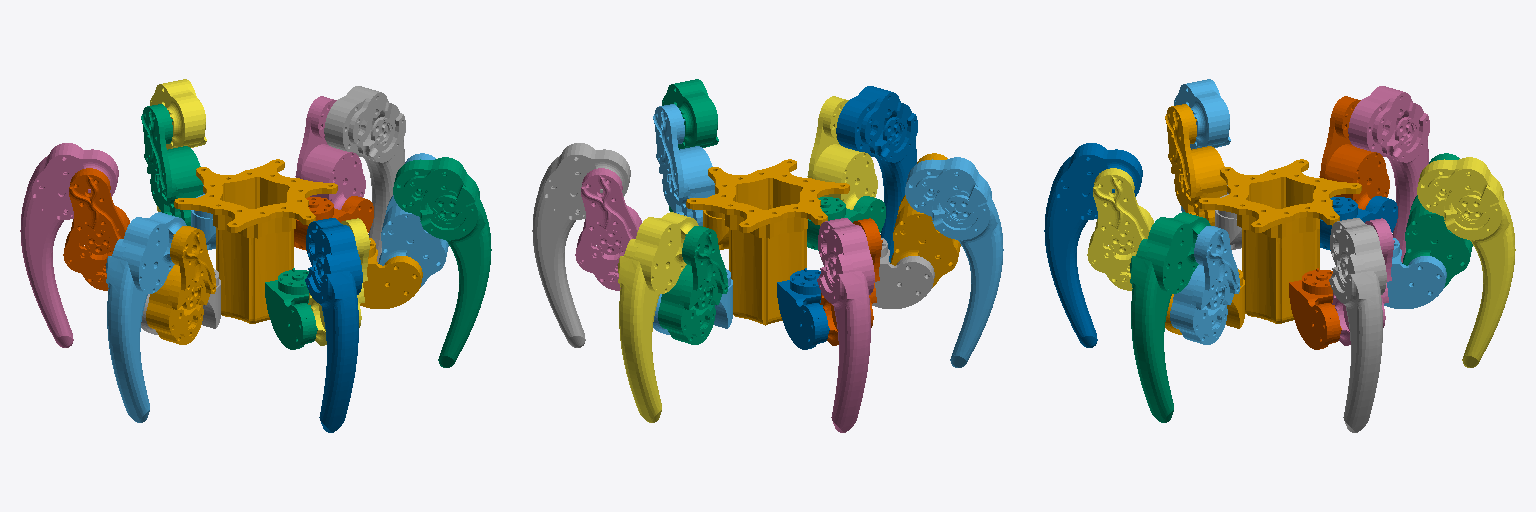
robot.urdf — ability_hand:
<robot name="ability_hand">

	<!-- Establish base frame geometries -->
	<link name="base" >
		<visual name="body_base_mesh">
			<origin rpy = "0 0 0" xyz = "0 0 0"/>
			<geometry>
				<mesh filename="render/FB_base_meters.STL"/>
			</geometry>
		</visual>	
		<visual name="leg1_gbx_mesh">
			<origin rpy = "0 0 0" xyz = "0 0 0"/>
			<geometry>
				<mesh filename="render/FB_gbx_leg1_meters.STL"/>
			</geometry>
		</visual>			
		<visual name="leg2_gbx_mesh">
			<origin rpy = "0 0 1.04719755" xyz = "0 0 0"/>
			<geometry>
				<mesh filename="render/FB_gbx_leg1_meters.STL"/>
			</geometry>
		</visual>			
		<visual name="leg2_gbx_mesh">
			<origin rpy = "0 0 2.0943951" xyz = "0 0 0"/>
			<geometry>
				<mesh filename="render/FB_gbx_leg1_meters.STL"/>
			</geometry>
		</visual>			
		<visual name="leg4_gbx_mesh">
			<origin rpy = "0 0 3.14159265359" xyz = "0 0 0"/>
			<geometry>
				<mesh filename="render/FB_gbx_leg1_meters.STL"/>
			</geometry>
		</visual>			
		<visual name="leg5_gbx_mesh">
			<origin rpy = "0 0 -1.04719755" xyz = "0 0 0"/>
			<geometry>
				<mesh filename="render/FB_gbx_leg1_meters.STL"/>
			</geometry>
		</visual>			
		<visual name="leg6_gbx_mesh">
			<origin rpy = "0 0 -2.0943951" xyz = "0 0 0"/>
			<geometry>
				<mesh filename="render/FB_gbx_leg1_meters.STL"/>
			</geometry>
		</visual>					
	</link>



	<!--
		Establish the frames and geometries for leg1!!!!
	-->
	<link name="leg1_link1" >
		<visual name="leg1_link1_mesh">
			<origin rpy = "0 0 0" xyz = "0 0 0"/>
			<geometry>
				<mesh filename="render/J1_link1_meters.STL"/>
			</geometry>
		</visual>	
		<inertial>
			<mass value = "0.1"/>
			<inertia ixx="0.16931e-6" ixy = "-0.076214e-6" ixz = "-0.16959148e-6" iyy = "0.77769934e-6" iyz = "0.0156622e-6" izz = "0.7249122e-6" />
			<origin rpy = "0 0 0" xyz = "0 0 0"/>
		</inertial>
	</link>
	<link name="leg1_link2" >
		<visual name="leg1_link2_mesh">
			<origin rpy = "0 0 0" xyz = "0 0 0"/>
			<geometry>
				<mesh filename="render/J2_link2_meters.STL"/>
			</geometry>
		</visual>	
		<inertial>
			<mass value = "0.1"/>
			<inertia ixx="0.16931e-6" ixy = "-0.076214e-6" ixz = "-0.16959148e-6" iyy = "0.77769934e-6" iyz = "0.0156622e-6" izz = "0.7249122e-6" />
			<origin rpy = "0 0 0" xyz = "0 0 0"/>
		</inertial>
	</link>
	<link name="leg1_link3" >
		<visual name="leg1_link3_mesh">
			<origin rpy = "0 0 0" xyz = "0 0 0"/>
			<geometry>
				<mesh filename="render/J3_link3_meters.STL"/>
			</geometry>
		</visual>	
		<inertial>
			<mass value = "0.1"/>
			<inertia ixx="0.16931e-6" ixy = "-0.076214e-6" ixz = "-0.16959148e-6" iyy = "0.77769934e-6" iyz = "0.0156622e-6" izz = "0.7249122e-6" />
			<origin rpy = "0 0 0" xyz = "0 0 0"/>
		</inertial>
	</link>
	<joint name="leg1_q1" type="revolute">
		<parent link="base"/>
		<child link="leg1_link1"/>
		<origin rpy = " 0.0 -0.0 1.4824826666439834 " xyz = "  9.68560403467281e-3 109.357754632563e-3 -46.52e-3 "/>
		<limit lower = "-1.0471975512" upper = "1.0471975512" effort = "4096" velocity = "3.4125"/>
		<axis xyz="0 0 1"/>
	</joint>
	<joint name="leg1_q2" type="revolute">
		<parent link="leg1_link1"/>
		<child link="leg1_link2"/>
		<origin rpy = " 1.5707963267948966 -6.099371034007507e-17 -3.141592653589793 " xyz = "  53.19977678085327e-3 -9.341271351859646e-3 -32.1600000000312e-3 "/>
		<limit lower = "0" upper = "3.21140582" effort = "4096" velocity = "3.4125"/>
		<axis xyz="0 0 1"/>
	</joint>
	<joint name="leg1_q3" type="revolute">
		<parent link="leg1_link2"/>
		<child link="leg1_link3"/>
		<origin rpy = " 3.141592653589793 9.240179859386194e-17 3.141592653589793 " xyz = "  -17.75562321538834e-3 98.8847208563049e-3 33.359575692035264e-3 "/>
		<limit lower = "0" upper = "3.17649924" effort = "4096" velocity = "3.4125"/>
		<axis xyz="0 0 1"/>
	</joint>
	
	
	
	
	<!--
		Establish the frames and geometries for leg2!!!!
	-->
	<link name="leg2_link1" >
		<visual name="leg2_link1_mesh">
			<origin rpy = "0 0 0" xyz = "0 0 0"/>
			<geometry>
				<mesh filename="render/J1_link1_meters.STL"/>
			</geometry>
		</visual>	
		<inertial>
			<mass value = "0.1"/>
			<inertia ixx="0.16931e-6" ixy = "-0.076214e-6" ixz = "-0.16959148e-6" iyy = "0.77769934e-6" iyz = "0.0156622e-6" izz = "0.7249122e-6" />
			<origin rpy = "0 0 0" xyz = "0 0 0"/>
		</inertial>
	</link>
	<link name="leg2_link2" >
		<visual name="leg2_link2_mesh">
			<origin rpy = "0 0 0" xyz = "0 0 0"/>
			<geometry>
				<mesh filename="render/J2_link2_meters.STL"/>
			</geometry>
		</visual>	
		<inertial>
			<mass value = "0.1"/>
			<inertia ixx="0.16931e-6" ixy = "-0.076214e-6" ixz = "-0.16959148e-6" iyy = "0.77769934e-6" iyz = "0.0156622e-6" izz = "0.7249122e-6" />
			<origin rpy = "0 0 0" xyz = "0 0 0"/>
		</inertial>
	</link>
	<link name="leg2_link3" >
		<visual name="leg2_link3_mesh">
			<origin rpy = "0 0 0" xyz = "0 0 0"/>
			<geometry>
				<mesh filename="render/J3_link3_meters.STL"/>
			</geometry>
		</visual>	
		<inertial>
			<mass value = "0.1"/>
			<inertia ixx="0.16931e-6" ixy = "-0.076214e-6" ixz = "-0.16959148e-6" iyy = "0.77769934e-6" iyz = "0.0156622e-6" izz = "0.7249122e-6" />
			<origin rpy = "0 0 0" xyz = "0 0 0"/>
		</inertial>
	</link>
	<joint name="leg2_q1" type="revolute">
		<parent link="base"/>
		<child link="leg2_link1"/>
		 <origin rpy = " 0.0 -0.0 2.529680217840581 " xyz = "  -89.86379159528853e-3 63.06685646130522e-3 -46.52e-3 "/>
		<limit lower = "-1.0471975512" upper = "1.0471975512" effort = "4096" velocity = "3.4125"/>
		<axis xyz="0 0 1"/>
	</joint>
	<joint name="leg2_q2" type="revolute">
		<parent link="leg2_link1"/>
		<child link="leg2_link2"/>
		<origin rpy = " 1.5707963267948966 -6.099371034007507e-17 -3.141592653589793 " xyz = "  53.19977678085327e-3 -9.341271351859646e-3 -32.1600000000312e-3 "/>
		<limit lower = "0" upper = "3.21140582" effort = "4096" velocity = "3.4125"/>
		<axis xyz="0 0 1"/>
	</joint>
	<joint name="leg2_q3" type="revolute">
		<parent link="leg2_link2"/>
		<child link="leg2_link3"/>
		<origin rpy = " 3.141592653589793 9.240179859386194e-17 3.141592653589793 " xyz = "  -17.75562321538834e-3 98.8847208563049e-3 33.359575692035264e-3 "/>
		<limit lower = "0" upper = "3.17649924" effort = "4096" velocity = "3.4125"/>
		<axis xyz="0 0 1"/>
	</joint>

	
	
	
	<!--
		Establish the frames and geometries for leg3!!!!
	-->
	<link name="leg3_link1" >
		<visual name="leg3_link1_mesh">
			<origin rpy = "0 0 0" xyz = "0 0 0"/>
			<geometry>
				<mesh filename="render/J1_link1_meters.STL"/>
			</geometry>
		</visual>	
		<inertial>
			<mass value = "0.1"/>
			<inertia ixx="0.16931e-6" ixy = "-0.076214e-6" ixz = "-0.16959148e-6" iyy = "0.77769934e-6" iyz = "0.0156622e-6" izz = "0.7249122e-6" />
			<origin rpy = "0 0 0" xyz = "0 0 0"/>
		</inertial>
	</link>
	<link name="leg3_link2" >
		<visual name="leg3_link2_mesh">
			<origin rpy = "0 0 0" xyz = "0 0 0"/>
			<geometry>
				<mesh filename="render/J2_link2_meters.STL"/>
			</geometry>
		</visual>	
		<inertial>
			<mass value = "0.1"/>
			<inertia ixx="0.16931e-6" ixy = "-0.076214e-6" ixz = "-0.16959148e-6" iyy = "0.77769934e-6" iyz = "0.0156622e-6" izz = "0.7249122e-6" />
			<origin rpy = "0 0 0" xyz = "0 0 0"/>
		</inertial>
	</link>
	<link name="leg3_link3" >
		<visual name="leg3_link3_mesh">
			<origin rpy = "0 0 0" xyz = "0 0 0"/>
			<geometry>
				<mesh filename="render/J3_link3_meters.STL"/>
			</geometry>
		</visual>	
		<inertial>
			<mass value = "0.1"/>
			<inertia ixx="0.16931e-6" ixy = "-0.076214e-6" ixz = "-0.16959148e-6" iyy = "0.77769934e-6" iyz = "0.0156622e-6" izz = "0.7249122e-6" />
			<origin rpy = "0 0 0" xyz = "0 0 0"/>
		</inertial>
	</link>
	<joint name="leg3_q1" type="revolute">
		<parent link="base"/>
		<child link="leg3_link1"/>
		<origin rpy = " 0.0 -0.0 -2.7063075381424078 " xyz = "  -99.54939562996135e-3 -46.290898171257766e-3 -46.52e-3 "/>
		<limit lower = "-1.0471975512" upper = "1.0471975512" effort = "4096" velocity = "3.4125"/>
		<axis xyz="0 0 1"/>
	</joint>
	<joint name="leg3_q2" type="revolute">
		<parent link="leg3_link1"/>
		<child link="leg3_link2"/>
		<origin rpy = " 1.5707963267948966 -6.099371034007507e-17 -3.141592653589793 " xyz = "  53.19977678085327e-3 -9.341271351859646e-3 -32.1600000000312e-3 "/>
		<limit lower = "0" upper = "3.21140582" effort = "4096" velocity = "3.4125"/>
		<axis xyz="0 0 1"/>
	</joint>
	<joint name="leg3_q3" type="revolute">
		<parent link="leg3_link2"/>
		<child link="leg3_link3"/>
		<origin rpy = " 3.141592653589793 9.240179859386194e-17 3.141592653589793 " xyz = "  -17.75562321538834e-3 98.8847208563049e-3 33.359575692035264e-3 "/>
		<limit lower = "0" upper = "3.17649924" effort = "4096" velocity = "3.4125"/>
		<axis xyz="0 0 1"/>
	</joint>
	


	<!--
		Establish the frames and geometries for leg4!!!!
	-->
	<link name="leg4_link1" >
		<visual name="leg4_link1_mesh">
			<origin rpy = "0 0 0" xyz = "0 0 0"/>
			<geometry>
				<mesh filename="render/J1_link1_meters.STL"/>
			</geometry>
		</visual>	
		<inertial>
			<mass value = "0.1"/>
			<inertia ixx="0.16931e-6" ixy = "-0.076214e-6" ixz = "-0.16959148e-6" iyy = "0.77769934e-6" iyz = "0.0156622e-6" izz = "0.7249122e-6" />
			<origin rpy = "0 0 0" xyz = "0 0 0"/>
		</inertial>
	</link>
	<link name="leg4_link2" >
		<visual name="leg4_link2_mesh">
			<origin rpy = "0 0 0" xyz = "0 0 0"/>
			<geometry>
				<mesh filename="render/J2_link2_meters.STL"/>
			</geometry>
		</visual>	
		<inertial>
			<mass value = "0.1"/>
			<inertia ixx="0.16931e-6" ixy = "-0.076214e-6" ixz = "-0.16959148e-6" iyy = "0.77769934e-6" iyz = "0.0156622e-6" izz = "0.7249122e-6" />
			<origin rpy = "0 0 0" xyz = "0 0 0"/>
		</inertial>
	</link>
	<link name="leg4_link3" >
		<visual name="leg4_link3_mesh">
			<origin rpy = "0 0 0" xyz = "0 0 0"/>
			<geometry>
				<mesh filename="render/J3_link3_meters.STL"/>
			</geometry>
		</visual>	
		<inertial>
			<mass value = "0.1"/>
			<inertia ixx="0.16931e-6" ixy = "-0.076214e-6" ixz = "-0.16959148e-6" iyy = "0.77769934e-6" iyz = "0.0156622e-6" izz = "0.7249122e-6" />
			<origin rpy = "0 0 0" xyz = "0 0 0"/>
		</inertial>
	</link>
	<joint name="leg4_q1" type="revolute">
		<parent link="base"/>
		<child link="leg4_link1"/>
		<origin rpy = " 0.0 -0.0 -1.65910998694581 " xyz = "  -9.685604034672824e-3 -109.357754632563e-3 -46.52e-3 "/>
		<limit lower = "-1.0471975512" upper = "1.0471975512" effort = "4096" velocity = "3.4125"/>
		<axis xyz="0 0 1"/>
	</joint>
	<joint name="leg4_q2" type="revolute">
		<parent link="leg4_link1"/>
		<child link="leg4_link2"/>
		<origin rpy = " 1.5707963267948966 -6.099371034007507e-17 -3.141592653589793 " xyz = "  53.19977678085327e-3 -9.341271351859646e-3 -32.1600000000312e-3 "/>
		<limit lower = "0" upper = "3.21140582" effort = "4096" velocity = "3.4125"/>
		<axis xyz="0 0 1"/>
	</joint>
	<joint name="leg4_q3" type="revolute">
		<parent link="leg4_link2"/>
		<child link="leg4_link3"/>
		<origin rpy = " 3.141592653589793 9.240179859386194e-17 3.141592653589793 " xyz = "  -17.75562321538834e-3 98.8847208563049e-3 33.359575692035264e-3 "/>
		<limit lower = "0" upper = "3.17649924" effort = "4096" velocity = "3.4125"/>
		<axis xyz="0 0 1"/>
	</joint>





	<!--
		Establish the frames and geometries for leg5 !!!!
	-->
	<link name="leg5_link1" >
		<visual name="leg5_link1_mesh">
			<origin rpy = "0 0 0" xyz = "0 0 0"/>
			<geometry>
				<mesh filename="render/J1_link1_meters.STL"/>
			</geometry>
		</visual>	
		<inertial>
			<mass value = "0.1"/>
			<inertia ixx="0.16931e-6" ixy = "-0.076214e-6" ixz = "-0.16959148e-6" iyy = "0.77769934e-6" iyz = "0.0156622e-6" izz = "0.7249122e-6" />
			<origin rpy = "0 0 0" xyz = "0 0 0"/>
		</inertial>
	</link>
	<link name="leg5_link2" >
		<visual name="leg5_link2_mesh">
			<origin rpy = "0 0 0" xyz = "0 0 0"/>
			<geometry>
				<mesh filename="render/J2_link2_meters.STL"/>
			</geometry>
		</visual>	
		<inertial>
			<mass value = "0.1"/>
			<inertia ixx="0.16931e-6" ixy = "-0.076214e-6" ixz = "-0.16959148e-6" iyy = "0.77769934e-6" iyz = "0.0156622e-6" izz = "0.7249122e-6" />
			<origin rpy = "0 0 0" xyz = "0 0 0"/>
		</inertial>
	</link>
	<link name="leg5_link3" >
		<visual name="leg5_link3_mesh">
			<origin rpy = "0 0 0" xyz = "0 0 0"/>
			<geometry>
				<mesh filename="render/J3_link3_meters.STL"/>
			</geometry>
		</visual>	
		<inertial>
			<mass value = "0.1"/>
			<inertia ixx="0.16931e-6" ixy = "-0.076214e-6" ixz = "-0.16959148e-6" iyy = "0.77769934e-6" iyz = "0.0156622e-6" izz = "0.7249122e-6" />
			<origin rpy = "0 0 0" xyz = "0 0 0"/>
		</inertial>
	</link>
	<joint name="leg5_q1" type="revolute">
		<parent link="base"/>
		<child link="leg5_link1"/>
		<origin rpy = " 0.0 -0.0 0.4352851154473858 " xyz = "  99.54939562996134e-3 46.2908981712578e-3 -46.52e-3 "/>
		<limit lower = "-1.0471975512" upper = "1.0471975512" effort = "4096" velocity = "3.4125"/>
		<axis xyz="0 0 1"/>
	</joint>
	<joint name="leg5_q2" type="revolute">
		<parent link="leg5_link1"/>
		<child link="leg5_link2"/>
		<origin rpy = " 1.5707963267948966 -6.099371034007507e-17 -3.141592653589793 " xyz = "  53.19977678085327e-3 -9.341271351859646e-3 -32.1600000000312e-3 "/>
		<limit lower = "0" upper = "3.21140582" effort = "4096" velocity = "3.4125"/>
		<axis xyz="0 0 1"/>
	</joint>
	<joint name="leg5_q3" type="revolute">
		<parent link="leg5_link2"/>
		<child link="leg5_link3"/>
		<origin rpy = " 3.141592653589793 9.240179859386194e-17 3.141592653589793 " xyz = "  -17.75562321538834e-3 98.8847208563049e-3 33.359575692035264e-3 "/>
		<limit lower = "0" upper = "3.17649924" effort = "4096" velocity = "3.4125"/>
		<axis xyz="0 0 1"/>
	</joint>


	<!--
		Establish the frames and geometries for leg6 !!!!
	-->
	<link name="leg6_link1" >
		<visual name="leg6_link1_mesh">
			<origin rpy = "0 0 0" xyz = "0 0 0"/>
			<geometry>
				<mesh filename="render/J1_link1_meters.STL"/>
			</geometry>
		</visual>	
		<inertial>
			<mass value = "0.1"/>
			<inertia ixx="0.16931e-6" ixy = "-0.076214e-6" ixz = "-0.16959148e-6" iyy = "0.77769934e-6" iyz = "0.0156622e-6" izz = "0.7249122e-6" />
			<origin rpy = "0 0 0" xyz = "0 0 0"/>
		</inertial>
	</link>
	<link name="leg6_link2" >
		<visual name="leg6_link2_mesh">
			<origin rpy = "0 0 0" xyz = "0 0 0"/>
			<geometry>
				<mesh filename="render/J2_link2_meters.STL"/>
			</geometry>
		</visual>	
		<inertial>
			<mass value = "0.1"/>
			<inertia ixx="0.16931e-6" ixy = "-0.076214e-6" ixz = "-0.16959148e-6" iyy = "0.77769934e-6" iyz = "0.0156622e-6" izz = "0.7249122e-6" />
			<origin rpy = "0 0 0" xyz = "0 0 0"/>
		</inertial>
	</link>
	<link name="leg6_link3" >
		<visual name="leg6_link3_mesh">
			<origin rpy = "0 0 0" xyz = "0 0 0"/>
			<geometry>
				<mesh filename="render/J3_link3_meters.STL"/>
			</geometry>
		</visual>	
		<inertial>
			<mass value = "0.1"/>
			<inertia ixx="0.16931e-6" ixy = "-0.076214e-6" ixz = "-0.16959148e-6" iyy = "0.77769934e-6" iyz = "0.0156622e-6" izz = "0.7249122e-6" />
			<origin rpy = "0 0 0" xyz = "0 0 0"/>
		</inertial>
	</link>
	<joint name="leg6_q1" type="revolute">
		<parent link="base"/>
		<child link="leg6_link1"/>
		<origin rpy = " 0.0 -0.0 -0.6119124357492118 " xyz = "  89.86379159528855e-3 -63.066856461305186e-3 -46.52e-3 "/>
		<limit lower = "-1.0471975512" upper = "1.0471975512" effort = "4096" velocity = "3.4125"/>
		<axis xyz="0 0 1"/>
	</joint>
	<joint name="leg6_q2" type="revolute">
		<parent link="leg6_link1"/>
		<child link="leg6_link2"/>
		<origin rpy = " 1.5707963267948966 -6.099371034007507e-17 -3.141592653589793 " xyz = "  53.19977678085327e-3 -9.341271351859646e-3 -32.1600000000312e-3 "/>
		<limit lower = "0" upper = "3.21140582" effort = "4096" velocity = "3.4125"/>
		<axis xyz="0 0 1"/>
	</joint>
	<joint name="leg6_q3" type="revolute">
		<parent link="leg6_link2"/>
		<child link="leg6_link3"/>
		<origin rpy = " 3.141592653589793 9.240179859386194e-17 3.141592653589793 " xyz = "  -17.75562321538834e-3 98.8847208563049e-3 33.359575692035264e-3 "/>
		<limit lower = "0" upper = "3.17649924" effort = "4096" velocity = "3.4125"/>
		<axis xyz="0 0 1"/>
	</joint>


</robot>

--- Render facts (derived) ---
3 views of the same robot in one strip: view 1: azimuth 30°, elevation 25°; view 2: azimuth 150°, elevation 25°; view 3: azimuth 270°, elevation 25° (orthographic).
Model ability_hand with 19 links and 18 joints (18 revolute), rooted at base, posed all joints at 0.
Links seen in each view (by area): view 1: base, leg6_link3, leg3_link3, leg4_link3, leg2_link3, leg5_link3, leg3_link2, leg2_link2, leg1_link2, leg5_link2, leg6_link2, leg4_link1 (+6 smaller); view 2: base, leg3_link3, leg1_link3, leg2_link3, leg5_link3, leg4_link3, leg1_link2, leg5_link2, leg6_link2, leg4_link2, leg3_link2, leg2_link1 (+6 smaller); view 3: base, leg1_link3, leg6_link3, leg5_link3, leg4_link3, leg2_link3, leg6_link2, leg4_link2, leg3_link2, leg2_link2, leg1_link2, leg5_link1 (+6 smaller).
Link boxes in pixels (left/top/right/bottom): base: left=174, top=159, right=337, bottom=323; leg6_link3: left=393, top=157, right=491, bottom=367; leg3_link3: left=106, top=212, right=186, bottom=422; leg4_link3: left=305, top=218, right=362, bottom=432; leg2_link3: left=20, top=143, right=118, bottom=347; leg5_link3: left=324, top=86, right=405, bottom=262; leg3_link2: left=146, top=226, right=216, bottom=344; leg2_link2: left=63, top=168, right=129, bottom=290; leg1_link2: left=141, top=104, right=202, bottom=225; leg5_link2: left=295, top=96, right=365, bottom=209; leg6_link2: left=378, top=153, right=448, bottom=287; leg4_link1: left=265, top=268, right=317, bottom=349; base: left=686, top=159, right=849, bottom=325; leg3_link3: left=905, top=157, right=1003, bottom=367; leg1_link3: left=618, top=212, right=698, bottom=422; leg2_link3: left=817, top=218, right=874, bottom=432; leg5_link3: left=532, top=143, right=630, bottom=347; leg4_link3: left=836, top=86, right=917, bottom=262; leg1_link2: left=658, top=226, right=728, bottom=344; leg5_link2: left=575, top=168, right=641, bottom=290; leg6_link2: left=653, top=104, right=714, bottom=225; leg4_link2: left=807, top=96, right=877, bottom=209; leg3_link2: left=890, top=153, right=960, bottom=287; leg2_link1: left=777, top=268, right=829, bottom=349; base: left=1198, top=159, right=1361, bottom=323; leg1_link3: left=1417, top=157, right=1515, bottom=367; leg6_link3: left=1130, top=212, right=1210, bottom=422; leg5_link3: left=1329, top=218, right=1386, bottom=432; leg4_link3: left=1044, top=143, right=1142, bottom=347; leg2_link3: left=1348, top=86, right=1429, bottom=262; leg6_link2: left=1170, top=226, right=1240, bottom=344; leg4_link2: left=1087, top=168, right=1153, bottom=290; leg3_link2: left=1165, top=104, right=1226, bottom=225; leg2_link2: left=1319, top=96, right=1389, bottom=209; leg1_link2: left=1402, top=153, right=1472, bottom=287; leg5_link1: left=1289, top=268, right=1341, bottom=349.
Bounding box of the posed robot: 0.4849 × 0.5186 × 0.2451 m (x, y, z).
Meshes: 5 distinct files referenced, 19 mesh visuals loaded (4 binary STL); not drawn: 6 (reference not matched to a file when rendering).